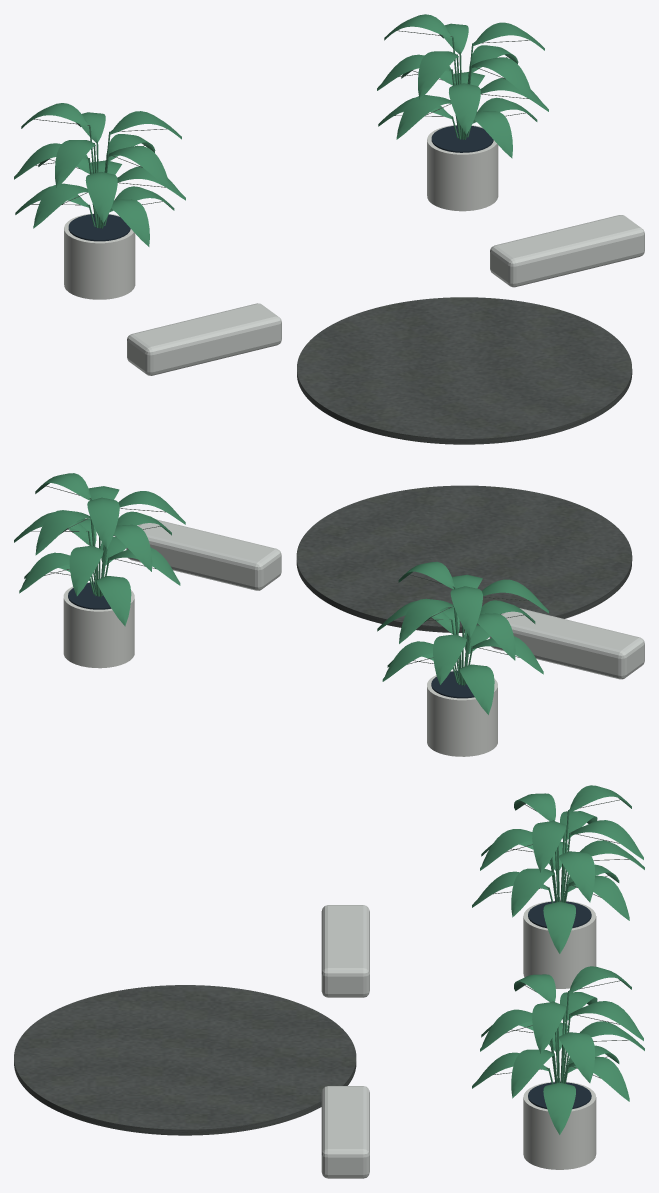
File: top.glb
3 views of the same model, one above another, from view 1: azimuth 30°, elevation 25°; view 2: azimuth 150°, elevation 25°; view 3: azimuth 270°, elevation 25° (orthographic). The views are drawn at different scales.
Visible parts, largest first — view 1: Static_top; view 2: Static_top; view 3: Static_top.
Boxes of the visible parts, x1,y1,x2,y2 form: Static_top: (14, 14, 644, 444); Static_top: (14, 473, 644, 756); Static_top: (14, 785, 644, 1178).
Bounding box in the file's own units: 11.27 × 3.59 × 11.79.
6 materials, 2 textured.
